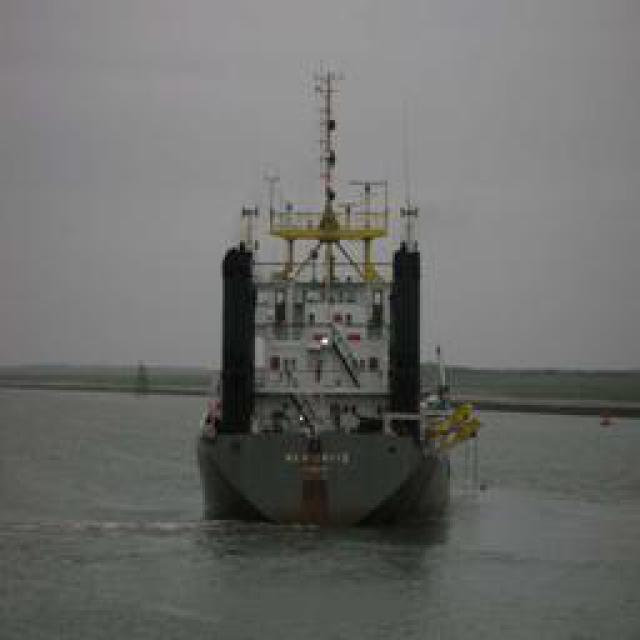Ship: (200, 61, 453, 529)
